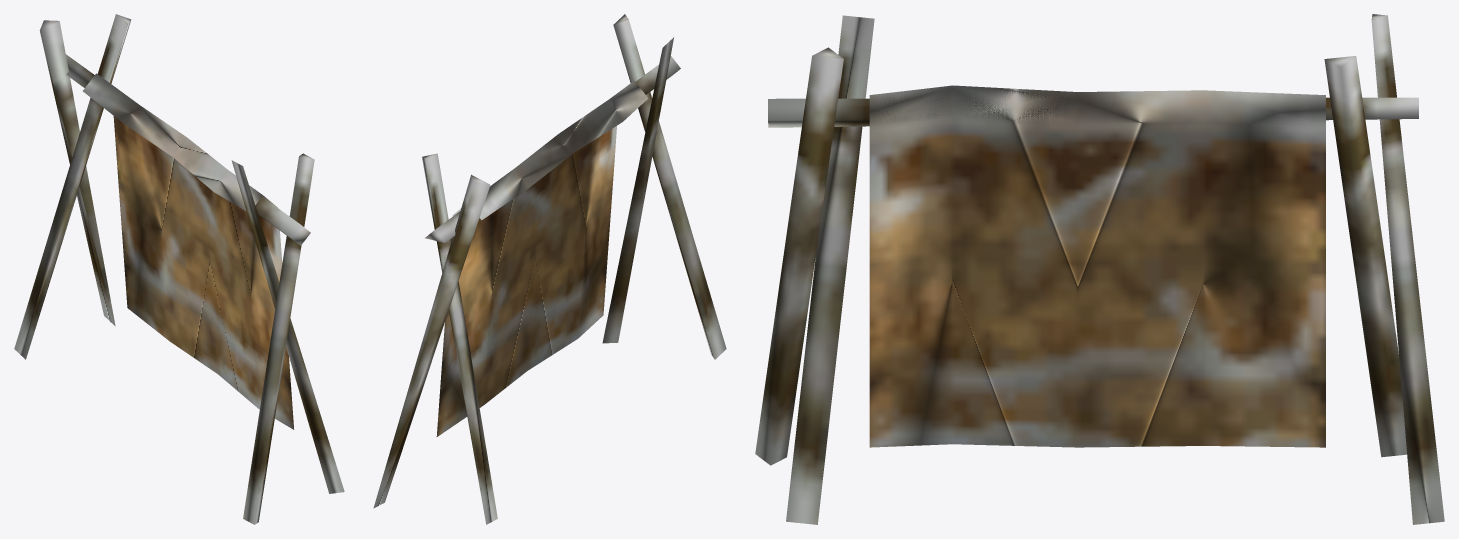
File: nsm-general_obj_02_lod_01.fbx
3 renders of one model, left to right at view 1: azimuth 30°, elevation 25°; view 2: azimuth 150°, elevation 25°; view 3: azimuth 270°, elevation 25°, orthographic. The views are drawn at different scales.
Visible parts, largest first — view 1: Mesh01; view 2: Mesh01; view 3: Mesh01.
Part boxes in pixels (x1,y1,x2,y2): Mesh01: (14,14,344,524); Mesh01: (373,14,726,524); Mesh01: (755,14,1444,524).
Size of the model in its own units: 0.8393 by 2.66 by 3.61.
